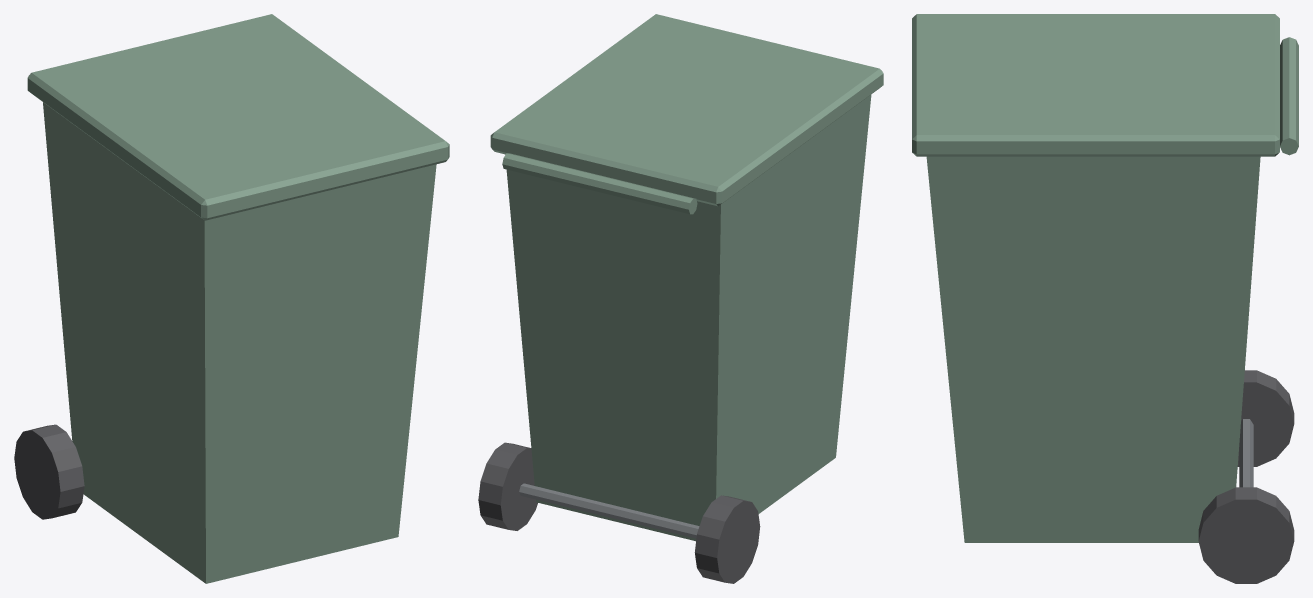
File: bin_g.glb
The picture shows the model from 3 angles, left to right: view 1: azimuth 30°, elevation 25°; view 2: azimuth 150°, elevation 25°; view 3: azimuth 270°, elevation 25°; orthographic projection. The views are drawn at different scales.
Visible parts, largest first — view 1: bin_g_bin_g, bin_g_rubber; view 2: bin_g_bin_g, bin_g_rubber, bin_g_steel_d; view 3: bin_g_bin_g, bin_g_rubber, bin_g_steel_d.
Boxes of the visible parts, <box> form: bin_g_bin_g: <box>27,14,449,583</box>; bin_g_rubber: <box>14,424,84,519</box>; bin_g_bin_g: <box>490,14,883,541</box>; bin_g_rubber: <box>478,442,760,583</box>; bin_g_steel_d: <box>519,483,699,538</box>; bin_g_bin_g: <box>912,14,1298,542</box>; bin_g_rubber: <box>1198,370,1294,583</box>; bin_g_steel_d: <box>1239,419,1253,487</box>.
Size of the model in its own units: 0.64 by 1.03 by 0.81.
